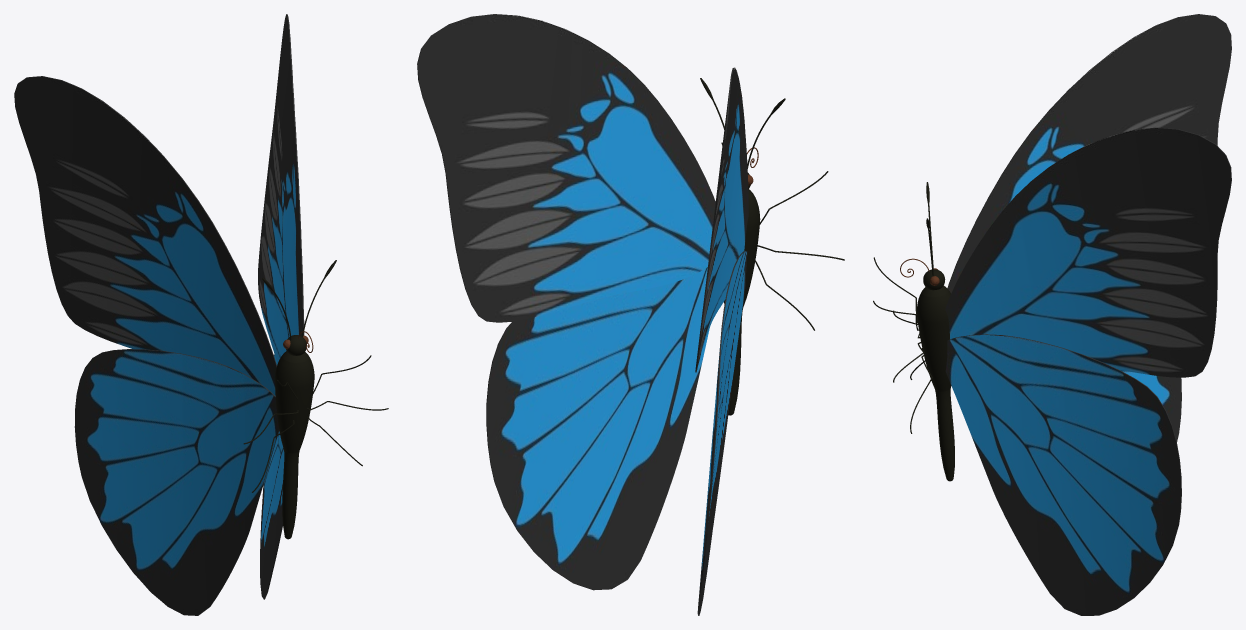
The model's file is alice.glb.
3 views of the same model, side by side, from view 1: azimuth 30°, elevation 25°; view 2: azimuth 150°, elevation 25°; view 3: azimuth 270°, elevation 25° (orthographic). The views are drawn at different scales.
Visible parts, largest first — view 1: Upper right, Bottom right, Upper left, Body, Bottom left; view 2: Upper left, Bottom left, Upper right, Bottom right, Body; view 3: Upper left, Bottom left, Upper right, Body, Bottom right.
Boxes of the visible parts, <box> form: Upper right: <box>14,76,276,395</box>; Bottom right: <box>74,349,279,615</box>; Upper left: <box>258,14,304,363</box>; Body: <box>275,335,314,539</box>; Bottom left: <box>260,354,284,599</box>; Upper left: <box>417,14,715,322</box>; Bottom left: <box>486,267,709,590</box>; Upper right: <box>695,67,748,372</box>; Bottom right: <box>697,251,747,615</box>; Body: <box>724,172,760,415</box>; Upper left: <box>945,127,1231,377</box>; Bottom left: <box>945,334,1181,615</box>; Upper right: <box>947,14,1231,293</box>; Body: <box>916,269,954,481</box>; Bottom right: <box>1120,370,1181,441</box>.
Size of the model in its own units: 0.4188 by 0.767 by 0.4769.
Materials: 4 (2 with a texture image).
